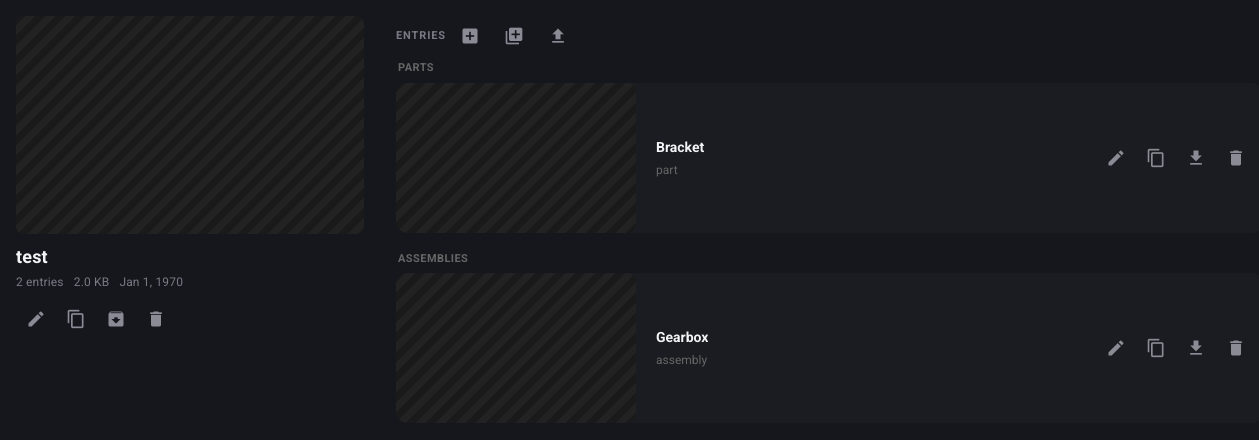
it: WorkspaceView identity-card verbs › reports a failed identity-card verb in the banner
The image size is (1259, 440).
Expected: the text "Bracket" is shown, [656,136,704,158]
Click the button named "Duplicate workspace" at (76, 319), box [56,299,96,339]
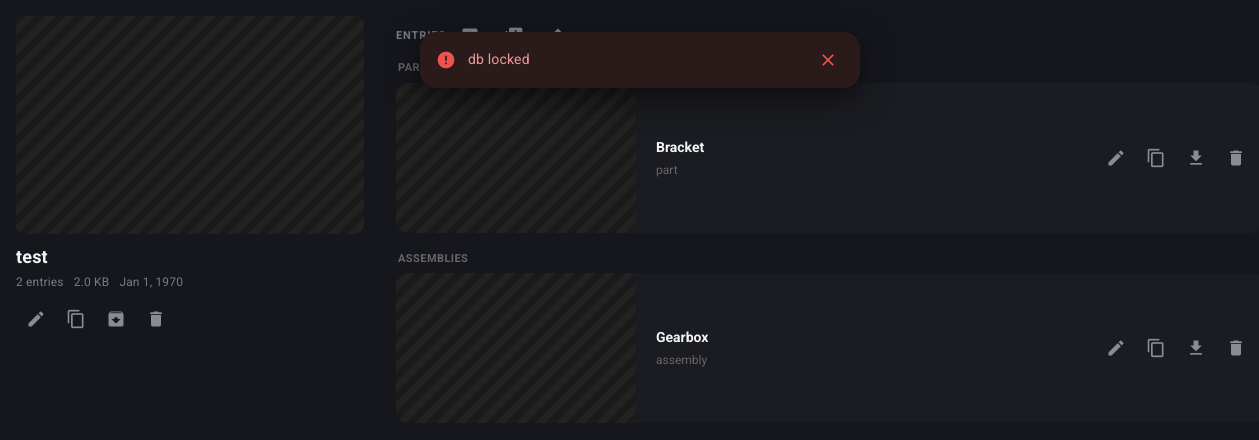
Now the text "db locked" is shown, box [468,51,530,67]
